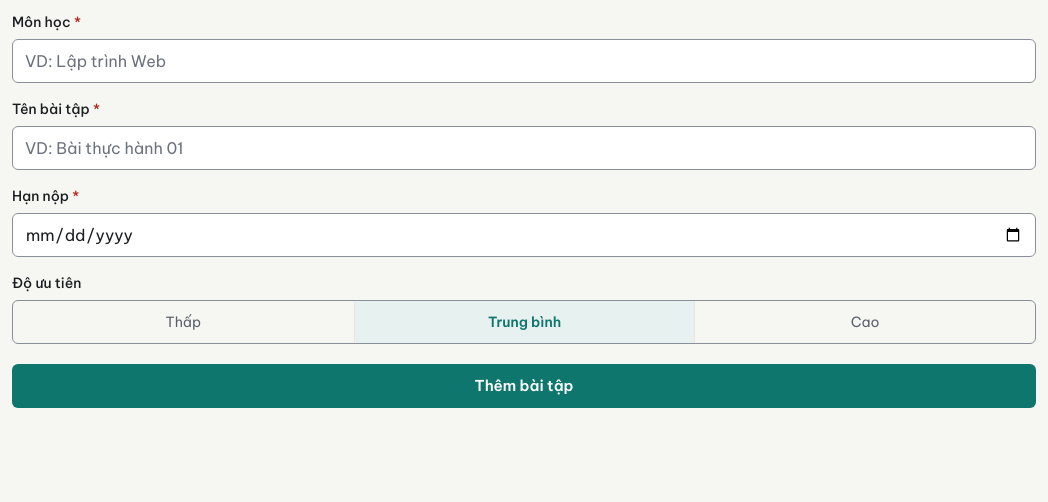
Scenario: AssignmentForm › validate: gõ lại vào ô lỗi thì lỗi của ô đó biến mất
Click the button "Thêm bài tập" at point(524, 386), box [12,364,1036,408]
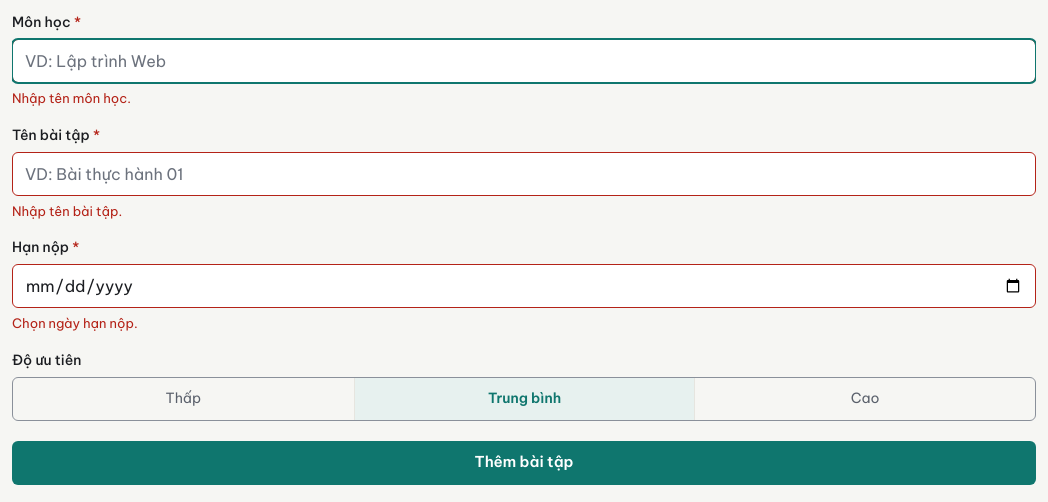
Type "T" into the field labelled "Tên bài tập *" at point(524, 174), box [12,152,1036,196]
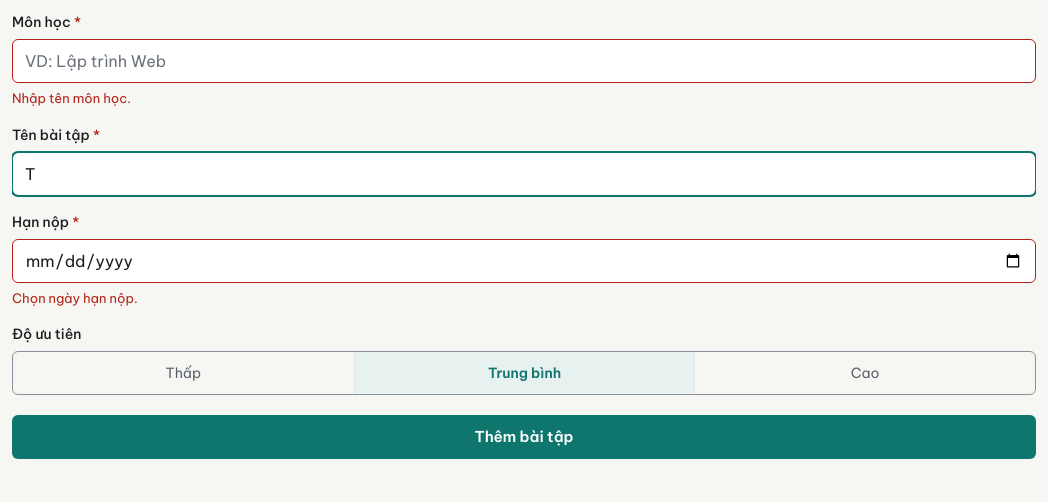
Expected: the text "Nhập tên môn học." is shown, [12,90,131,106]
Expected: the text "Nhập tên bài tập." is gone
